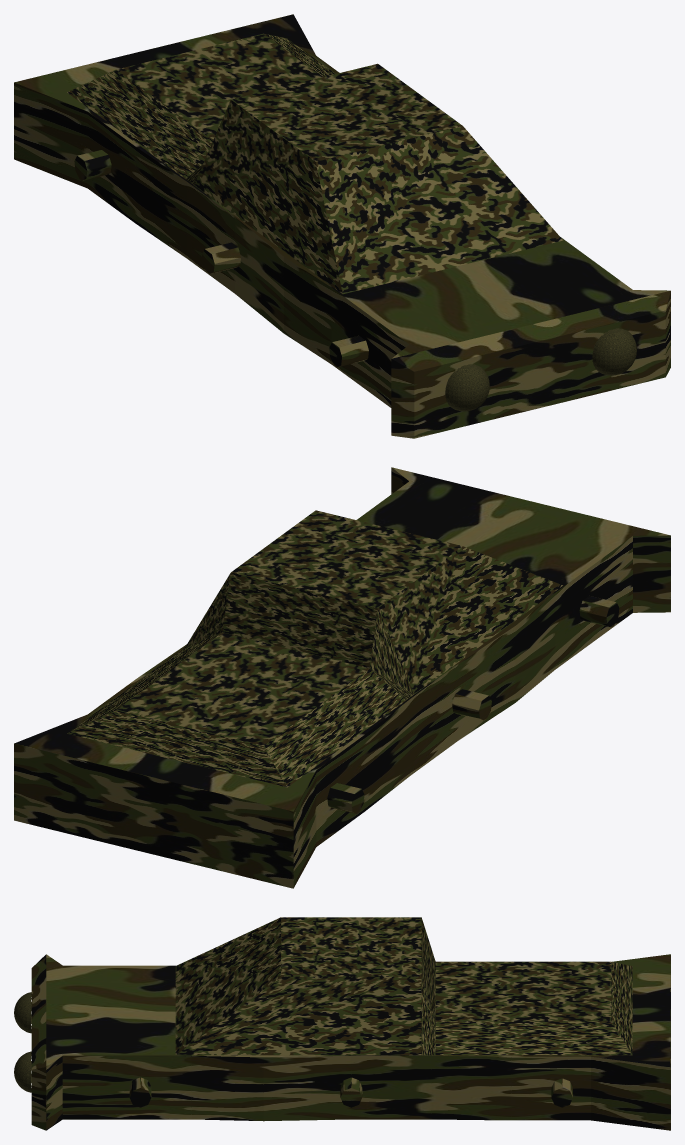
File: cutre1.obj
3 renders of one model, top to bottom at view 1: azimuth 30°, elevation 25°; view 2: azimuth 150°, elevation 25°; view 3: azimuth 270°, elevation 25°, orthographic. The views are drawn at different scales.
Parts seen in each view (by area): view 1: Cube; view 2: Cube; view 3: Cube.
Part boxes in pixels (x1=…): Cube: x1=14, y1=14, x2=670, y2=438; Cube: x1=14, y1=467, x2=670, y2=888; Cube: x1=14, y1=917, x2=670, y2=1130.
Bounding box in the file's own units: 3.8 × 2 × 9.35.
